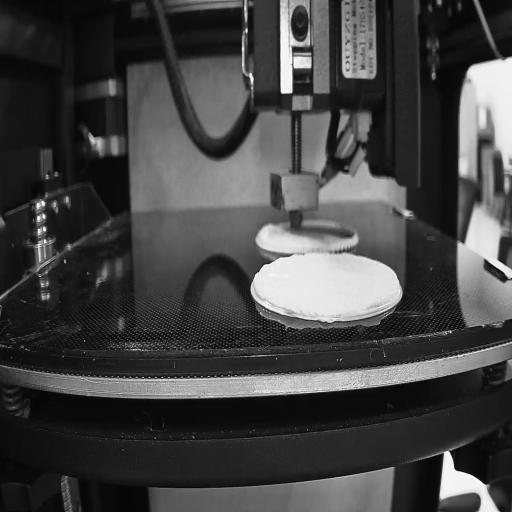over_extrusion: (366, 283, 400, 310), (251, 259, 272, 300)
